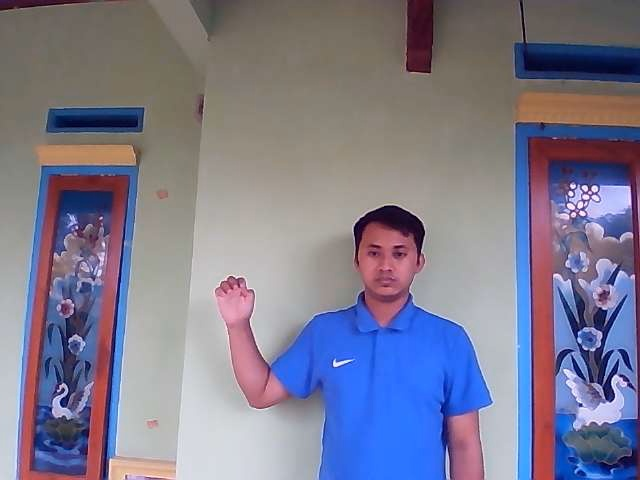E: (214, 276, 256, 324)
